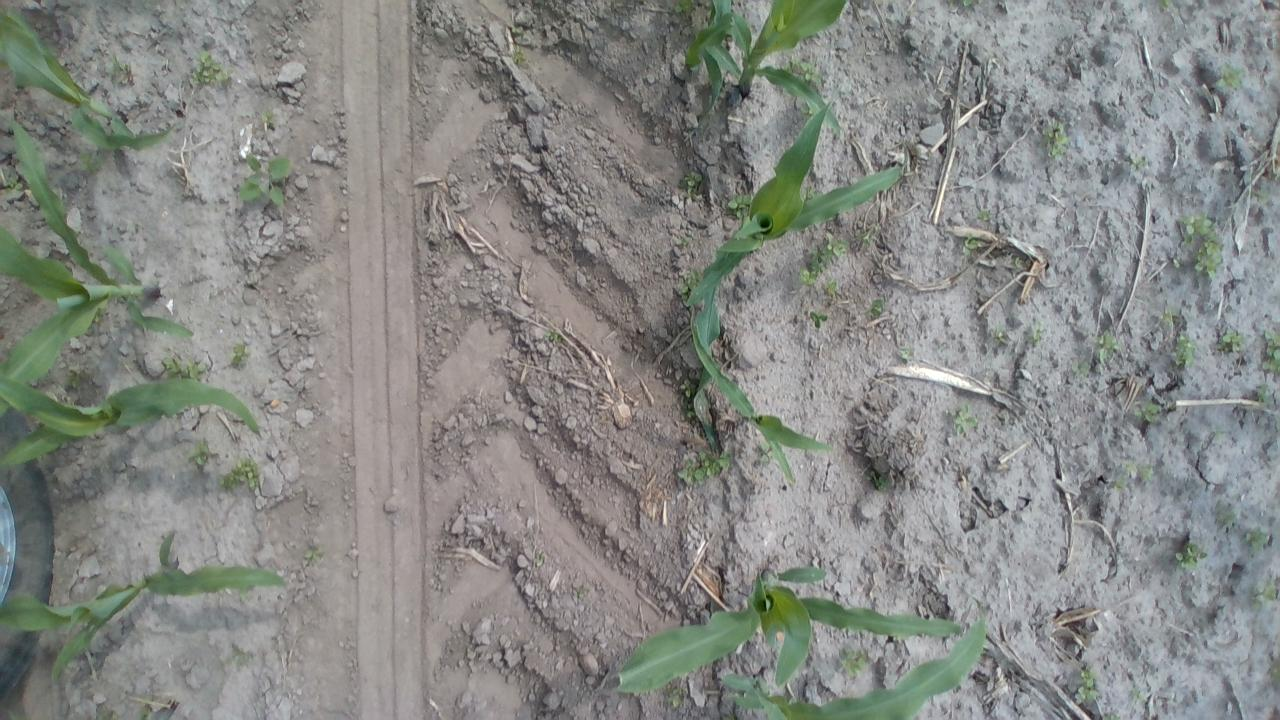Maize: (0, 107, 195, 419), (681, 99, 915, 350), (605, 564, 988, 710), (0, 534, 291, 684), (688, 612, 998, 720), (0, 9, 187, 157), (0, 367, 264, 469), (689, 322, 836, 487), (728, 1, 848, 140), (676, 0, 740, 92)
Weeds: (236, 151, 291, 205), (1177, 220, 1224, 280), (797, 230, 847, 285), (676, 447, 732, 484), (1177, 212, 1220, 260), (188, 48, 234, 88), (221, 456, 262, 492), (782, 56, 823, 88), (162, 352, 208, 380), (1040, 119, 1069, 161), (836, 646, 871, 680), (1170, 333, 1198, 371), (1173, 538, 1205, 571), (676, 270, 702, 307), (1215, 64, 1247, 93), (1076, 666, 1100, 704), (185, 438, 215, 468), (950, 403, 979, 434), (1095, 329, 1122, 362), (106, 52, 132, 84), (1214, 500, 1240, 530), (726, 191, 752, 221), (1252, 577, 1278, 607), (1243, 524, 1271, 551), (1113, 460, 1142, 486), (1261, 330, 1277, 376), (1218, 328, 1244, 356), (679, 168, 705, 196), (1122, 461, 1154, 483), (1132, 399, 1160, 424), (77, 150, 103, 176), (867, 464, 893, 490), (227, 342, 250, 370), (225, 646, 254, 668), (136, 700, 166, 719), (64, 367, 89, 388), (667, 685, 685, 711), (1, 172, 22, 194), (303, 543, 327, 562), (962, 236, 982, 258), (856, 226, 878, 246), (1070, 356, 1092, 375), (1028, 321, 1046, 344), (1158, 308, 1178, 328), (670, 0, 698, 14), (866, 298, 885, 318), (989, 325, 1008, 345), (1128, 154, 1148, 172), (822, 280, 841, 298), (510, 46, 528, 65), (680, 378, 697, 398), (811, 310, 829, 328), (1111, 472, 1129, 490), (976, 208, 994, 225), (1252, 184, 1269, 202), (895, 345, 912, 363), (680, 402, 697, 420), (544, 328, 562, 344), (534, 548, 549, 566), (1011, 254, 1025, 272), (262, 109, 280, 122), (511, 23, 527, 36), (1130, 687, 1144, 701), (676, 232, 690, 246), (802, 187, 817, 200), (1156, 0, 1172, 12), (1212, 428, 1226, 441), (956, 0, 978, 8)
